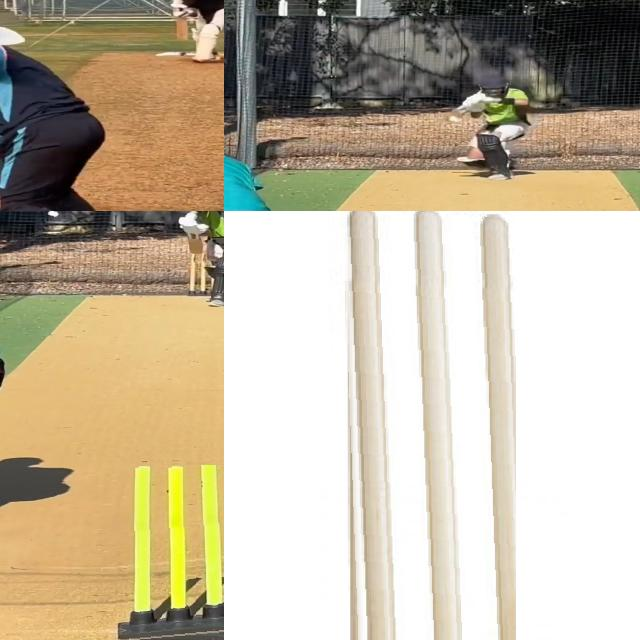Cricket ball: (447, 115, 462, 123), (46, 211, 60, 218), (180, 51, 186, 56)
Stumps: (340, 211, 516, 640), (110, 465, 224, 640)
